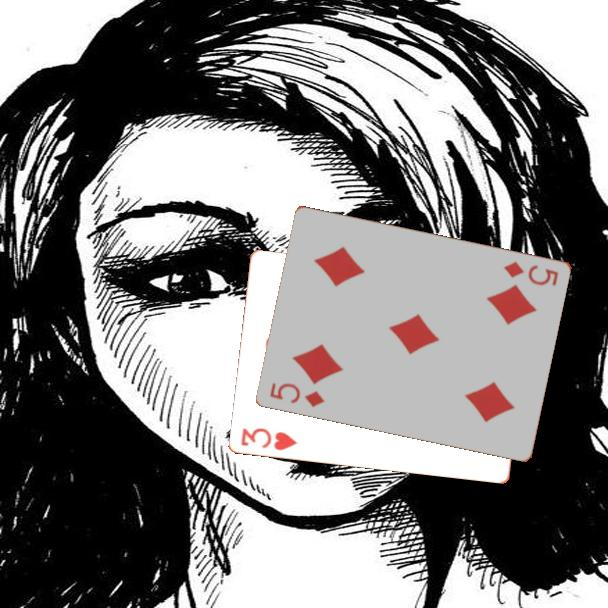d05: (267, 379, 328, 410), (500, 258, 562, 288)
h03: (238, 424, 301, 453)
